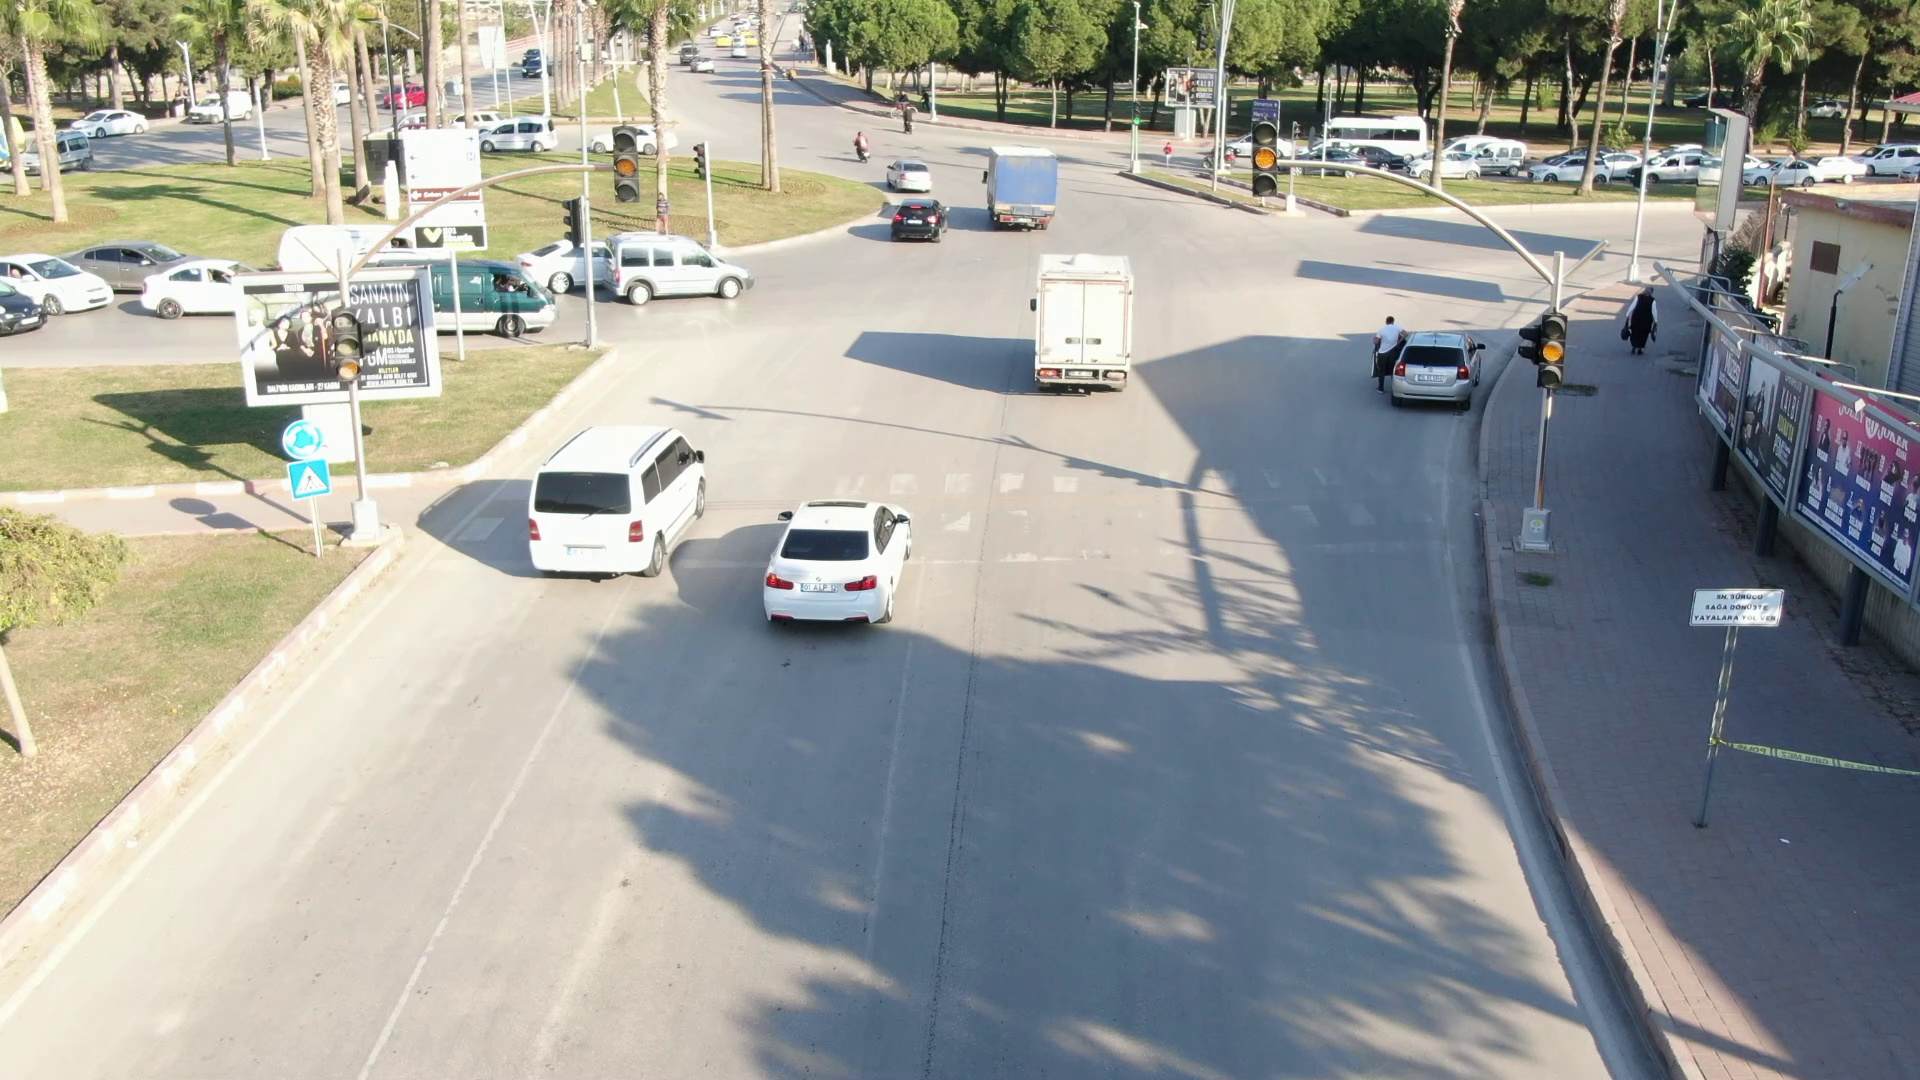car: (516, 406, 708, 592), (744, 461, 933, 645), (1019, 247, 1162, 401), (598, 225, 759, 313), (977, 142, 1071, 235), (1395, 328, 1484, 426), (889, 197, 962, 248), (873, 153, 939, 194)
person: (1618, 279, 1662, 358), (1369, 308, 1404, 391)
